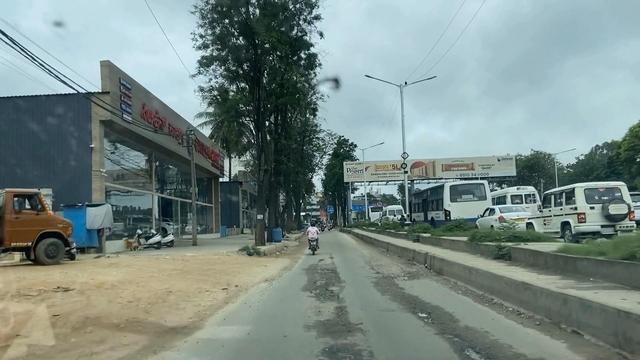RoadDamages: (439, 328, 530, 360), (370, 276, 435, 320), (308, 320, 369, 360), (308, 262, 343, 313)
